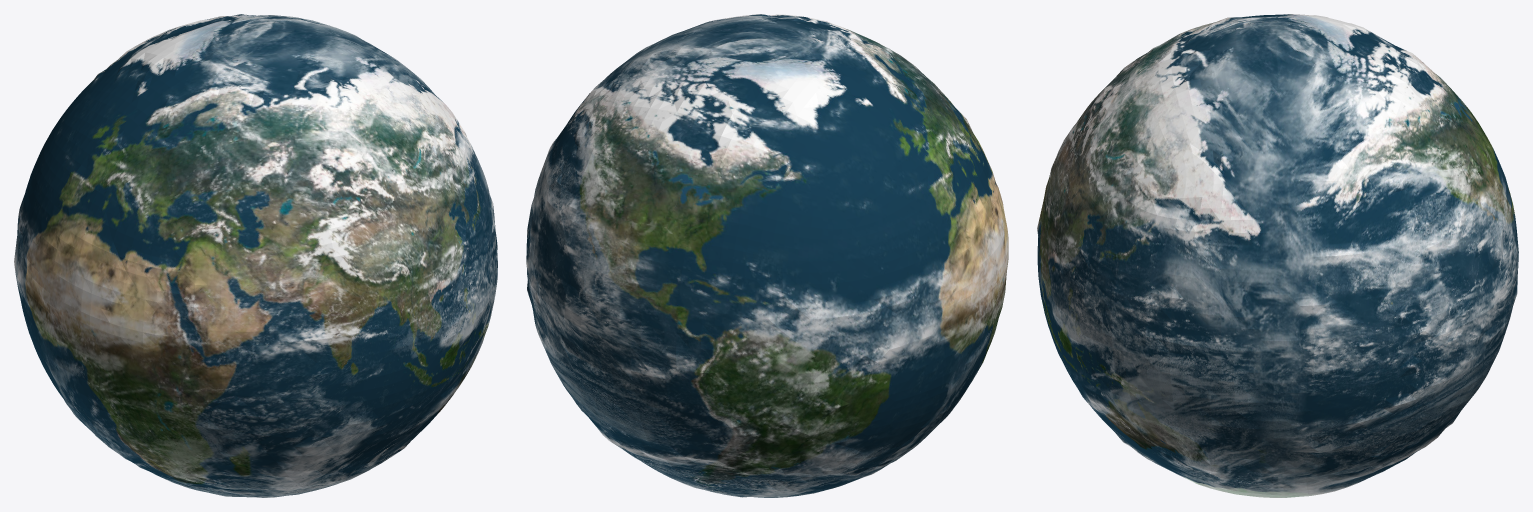
Rendered from LI4TDM8A874IO8I8N0FH5F6BQ.fbx.
3 views of the same model, side by side, from view 1: azimuth 30°, elevation 25°; view 2: azimuth 150°, elevation 25°; view 3: azimuth 270°, elevation 25° (orthographic).
Visible parts, largest first — view 1: Object_TexMap_0; view 2: Object_TexMap_0; view 3: Object_TexMap_0.
Boxes of the visible parts, box(x1,y1,x2,y2) form: Object_TexMap_0: box(14, 14, 497, 497); Object_TexMap_0: box(526, 14, 1008, 497); Object_TexMap_0: box(1037, 14, 1518, 497).
Bounding box in the file's own units: 2.49 × 2.5 × 2.49.
